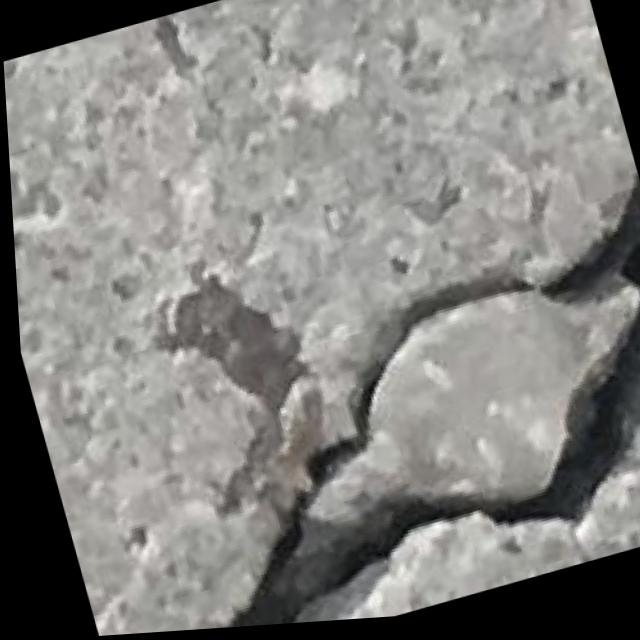Crack: (86, 170, 640, 636)
